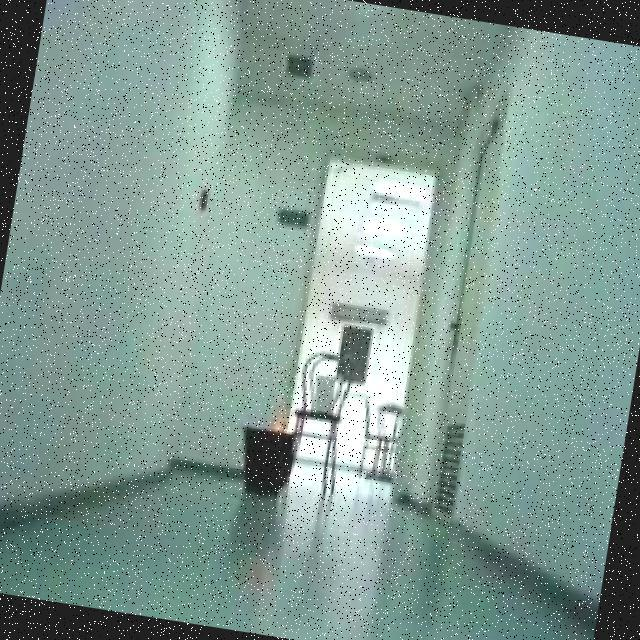Fire: (268, 409, 288, 432)
